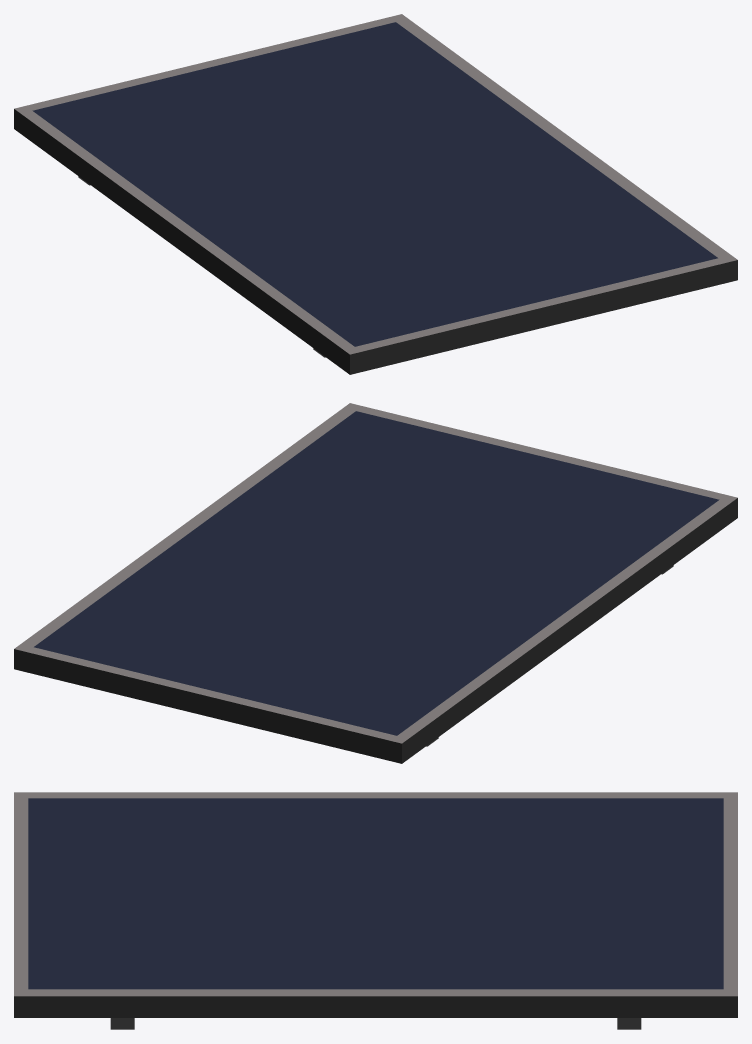
Rendered from props_solar-panel-house.fbx.
3 views of the same model, one above another, from view 1: azimuth 30°, elevation 25°; view 2: azimuth 150°, elevation 25°; view 3: azimuth 270°, elevation 25° (orthographic). The views are drawn at different scales.
Parts seen in each view (by area): view 1: props_solar_panel_house; view 2: props_solar_panel_house; view 3: props_solar_panel_house.
Boxes of the visible parts, x1,y1,x2,y2 form: props_solar_panel_house: [14, 14, 737, 374]; props_solar_panel_house: [14, 403, 737, 763]; props_solar_panel_house: [14, 792, 737, 1029].
Bounding box in the file's own units: 133 × 13.33 × 200.
